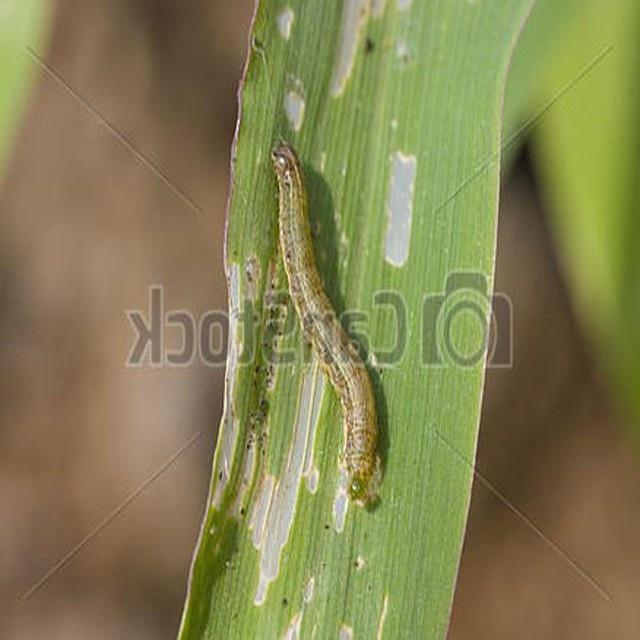Plaga: (267, 134, 389, 514)
